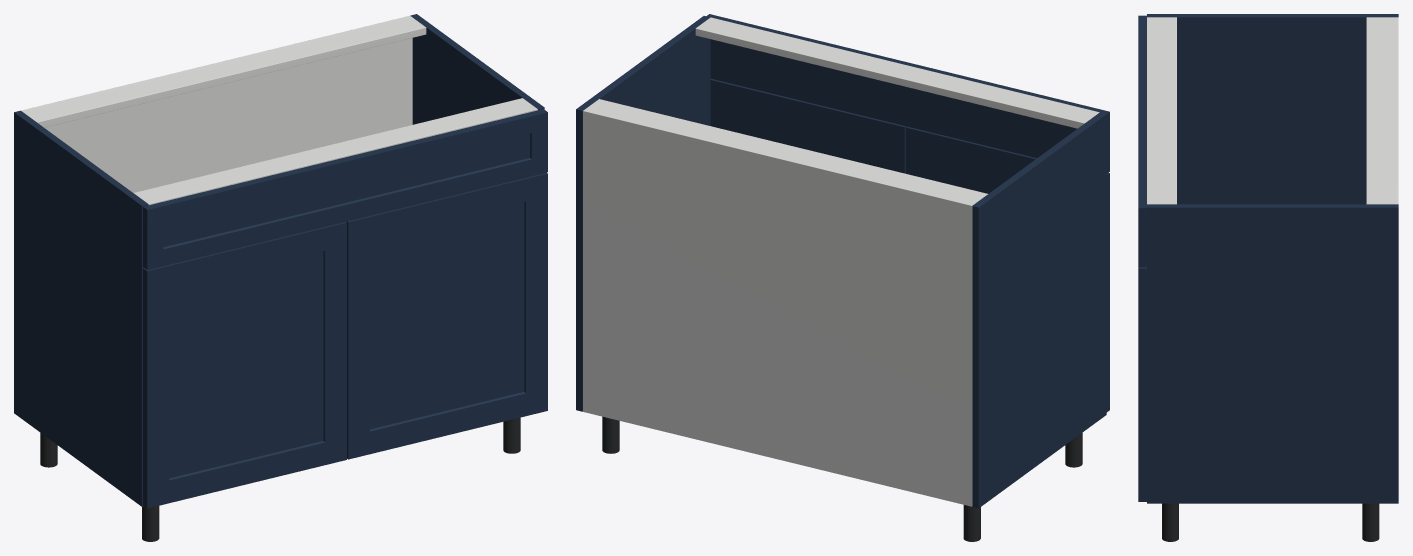
File: oppein-pb-bss-sb42.glb
The picture shows the model from 3 angles, left to right: view 1: azimuth 30°, elevation 25°; view 2: azimuth 150°, elevation 25°; view 3: azimuth 270°, elevation 25°; orthographic projection.
Visible parts, largest first — view 1: Door, Door.001, Cabinet side, Cabinet back, False drawer front, Top support rail, Cabinet side.001, Top support rail.001; view 2: Cabinet back, Cabinet side, False drawer front, Door.001, Cabinet side.001, Top support rail.001, Door, Top support rail, Cabinet bottom, Adjustable foot, Adjustable foot.002; view 3: Cabinet side.001, Cabinet side, Top support rail.001, Top support rail, False drawer front, Door.001, Cabinet back, Adjustable foot.002, Adjustable foot.003.
Part boxes in pixels (<box>): Door: <box>143,221,346,508</box>; Door.001: <box>346,172,547,459</box>; Cabinet side: <box>14,110,148,506</box>; Cabinet back: <box>21,15,412,192</box>; False drawer front: <box>143,109,547,269</box>; Top support rail: <box>23,17,426,127</box>; Cabinet side.001: <box>410,14,544,124</box>; Top support rail.001: <box>133,98,537,205</box>; Cabinet back: <box>583,109,974,506</box>; Cabinet side: <box>972,112,1106,508</box>; False drawer front: <box>706,14,1109,173</box>; Door.001: <box>710,78,906,173</box>; Cabinet side.001: <box>576,16,710,411</box>; Top support rail.001: <box>695,17,1099,128</box>; Door: <box>906,126,1109,412</box>; Top support rail: <box>586,99,987,203</box>; Cabinet bottom: <box>593,408,971,505</box>; Adjustable foot: <box>963,505,980,541</box>; Adjustable foot.002: <box>602,416,619,453</box>; Cabinet side.001: <box>1147,204,1398,503</box>; Cabinet side: <box>1147,14,1398,204</box>; Top support rail.001: <box>1147,17,1176,204</box>; Top support rail: <box>1366,17,1393,204</box>; False drawer front: <box>1138,15,1146,267</box>; Door.001: <box>1138,267,1146,501</box>; Cabinet back: <box>1393,17,1398,204</box>; Adjustable foot.002: <box>1362,503,1379,541</box>; Adjustable foot.003: <box>1162,503,1178,541</box>.
Bounding box in the file's own units: 1.07 × 0.8763 × 0.6064.
